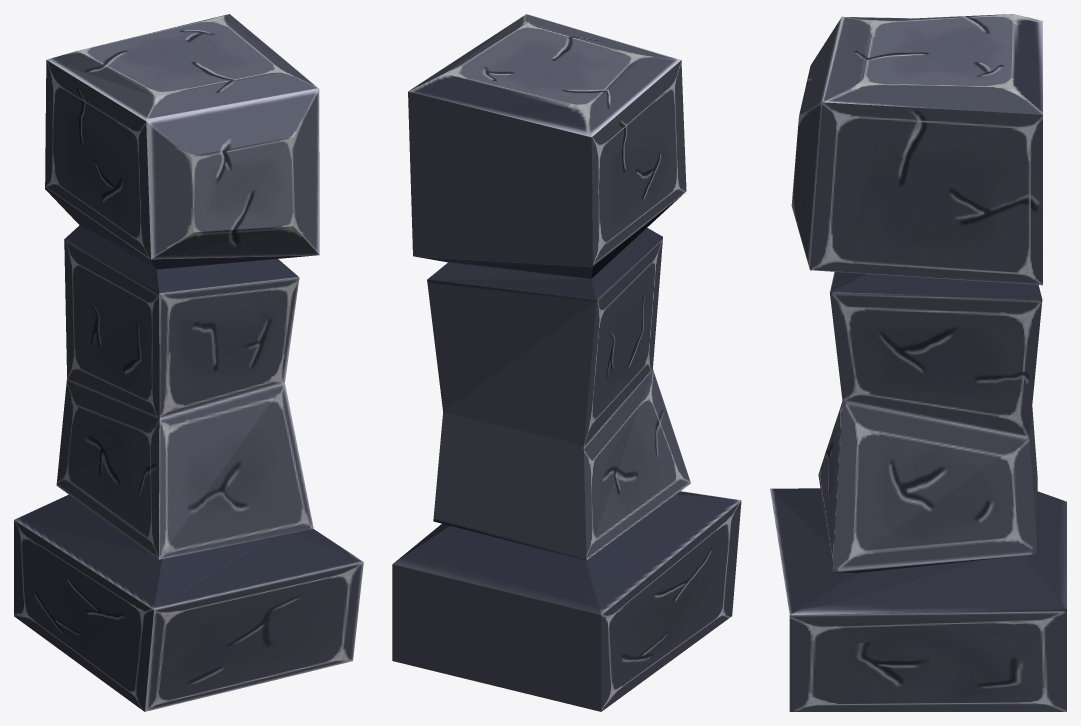
File: pilar 1.FBX
3 renders of one model, left to right at view 1: azimuth 30°, elevation 25°; view 2: azimuth 150°, elevation 25°; view 3: azimuth 270°, elevation 25°, orthographic. The views are drawn at different scales.
Parts seen in each view (by area): view 1: Box070; view 2: Box070; view 3: Box070.
Boxes of the visible parts, x1,y1,x2,y2 form: Box070: (14,14,363,711); Box070: (392,14,741,711); Box070: (770,14,1066,711).
Bounding box in the file's own units: 229 × 573 × 253.
